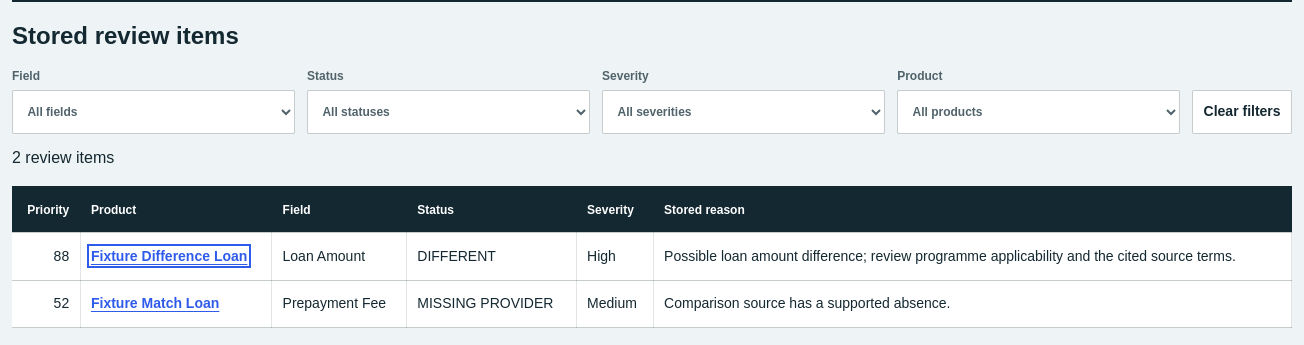
Test: ReviewLedger › uses a real keyboard-operable link and gives directional empty copy
Select "Loan Amount" in the dropdown labelled "Field" at (154, 112), box [12,90,295,134]
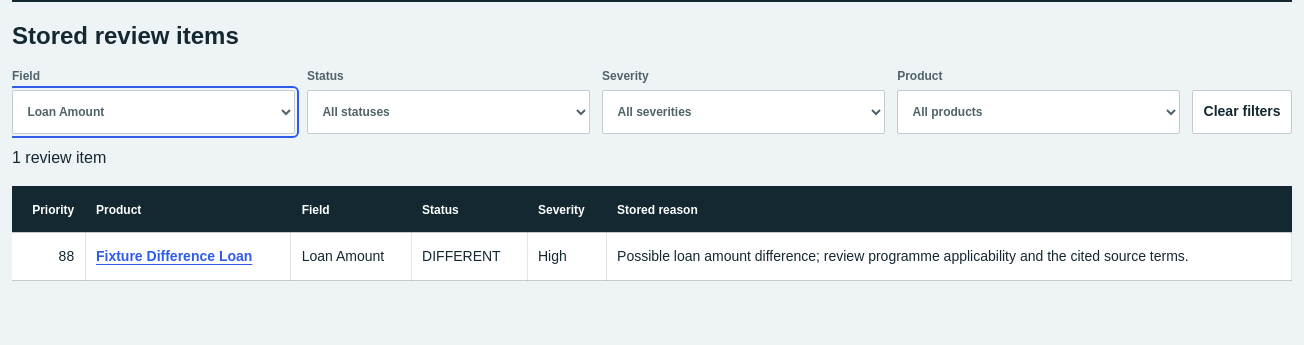
Select "MISSING PROVIDER" in the dropdown labelled "Status" at (448, 112), box [307,90,590,134]
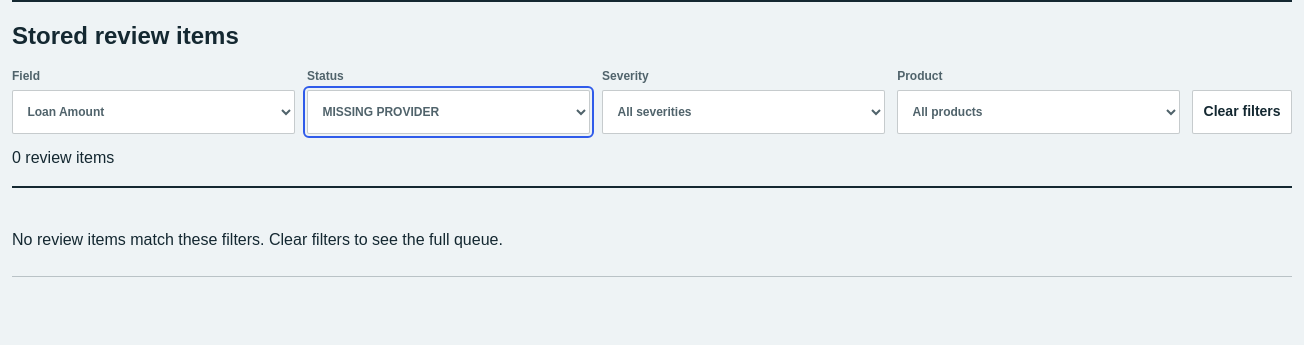
Now the text "No review items match these filters. Clear filters to see the full queue." is shown, box [12,204,1292,277]
